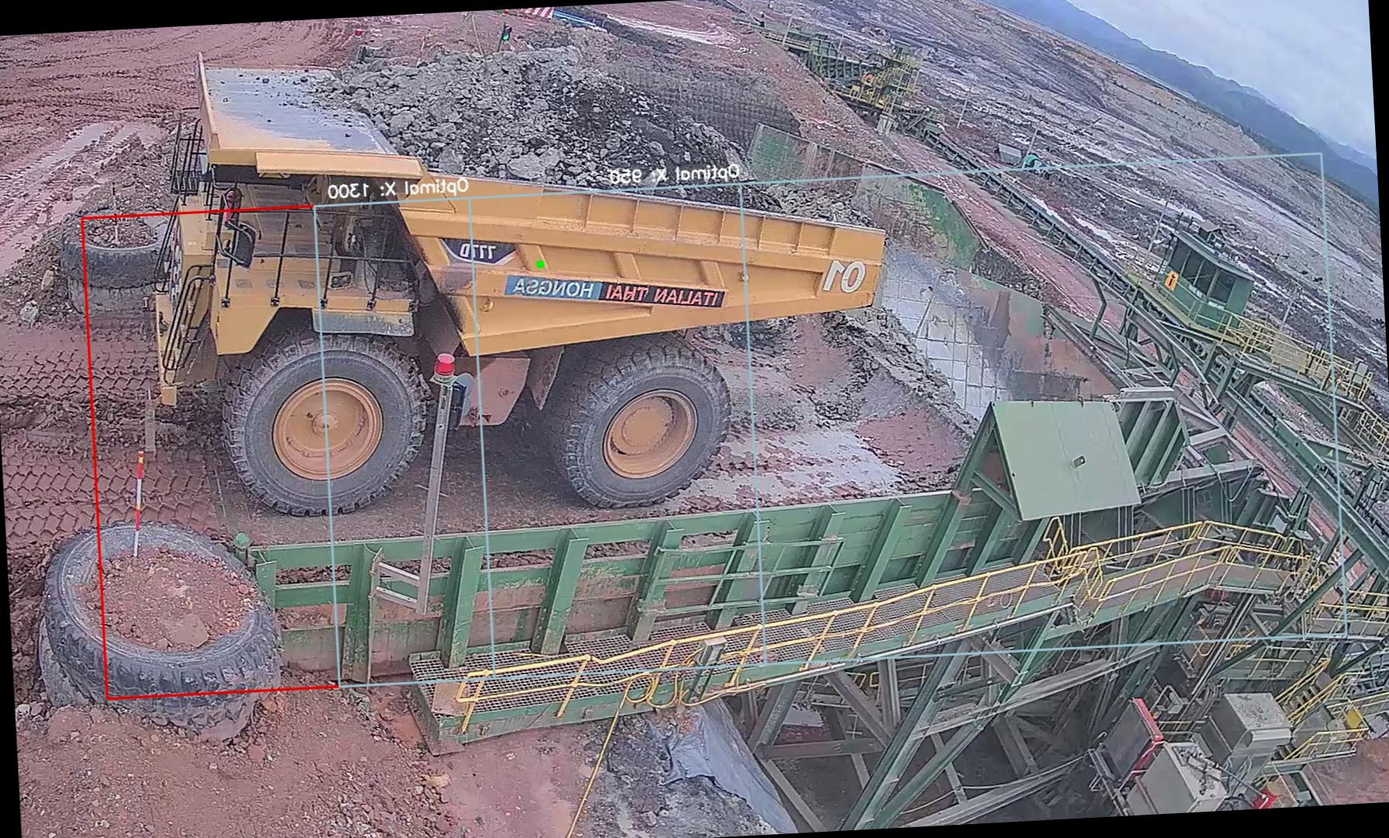company: (493, 262, 728, 321)
full_load: (373, 36, 691, 200)
mining_truck: (109, 9, 907, 523)
tail_number: (818, 252, 875, 306)
truck_size: (445, 232, 517, 267)
